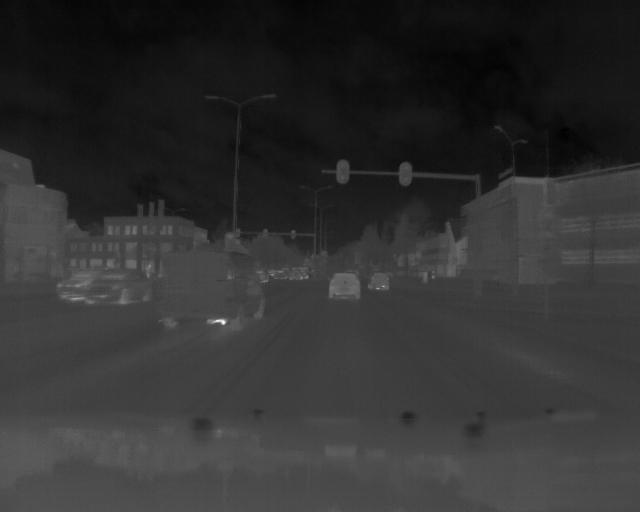car: (159, 247, 267, 329), (88, 268, 153, 304), (50, 266, 91, 303), (328, 271, 362, 303), (366, 270, 392, 295)
